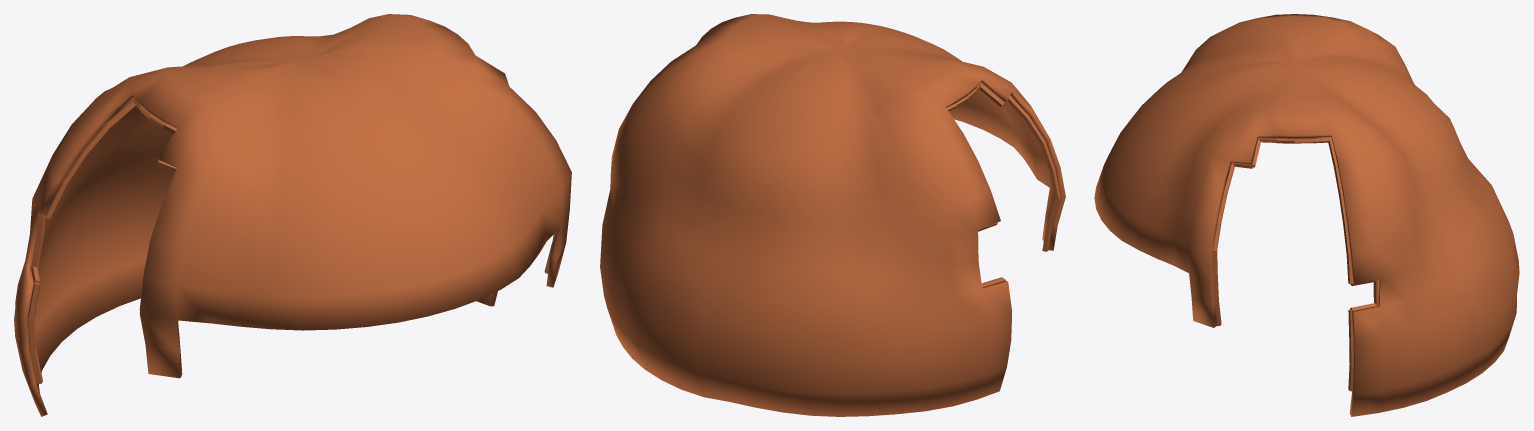
The model's file is Helm_DROOP.fbx.
3 views of the same model, side by side, from view 1: azimuth 30°, elevation 25°; view 2: azimuth 150°, elevation 25°; view 3: azimuth 270°, elevation 25° (orthographic). The views are drawn at different scales.
Parts seen in each view (by area): view 1: Helm_DROOP; view 2: Helm_DROOP; view 3: Helm_DROOP.
Boxes of the visible parts, left/top/right/bottom form: Helm_DROOP: left=14, top=14, right=571, bottom=416; Helm_DROOP: left=600, top=14, right=1065, bottom=416; Helm_DROOP: left=1094, top=14, right=1519, bottom=416.
Size of the model in its own units: 0.6422 by 0.4194 by 0.6046.
